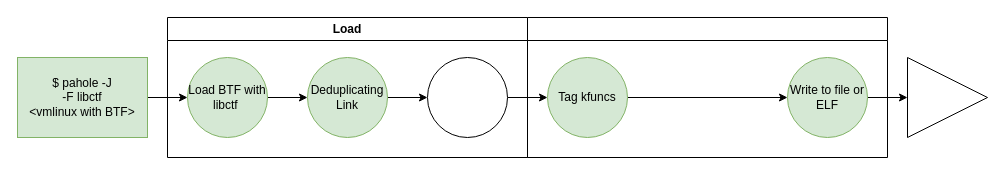
The diagram is 1005 pixels wide and 175 high, and some of its shapes have lost their labels. Each missing label, with the box of its shape:
Encode: (526, 16, 888, 158)
Parse types for IR: (426, 56, 508, 138)
vmlinux: (906, 56, 988, 138)
